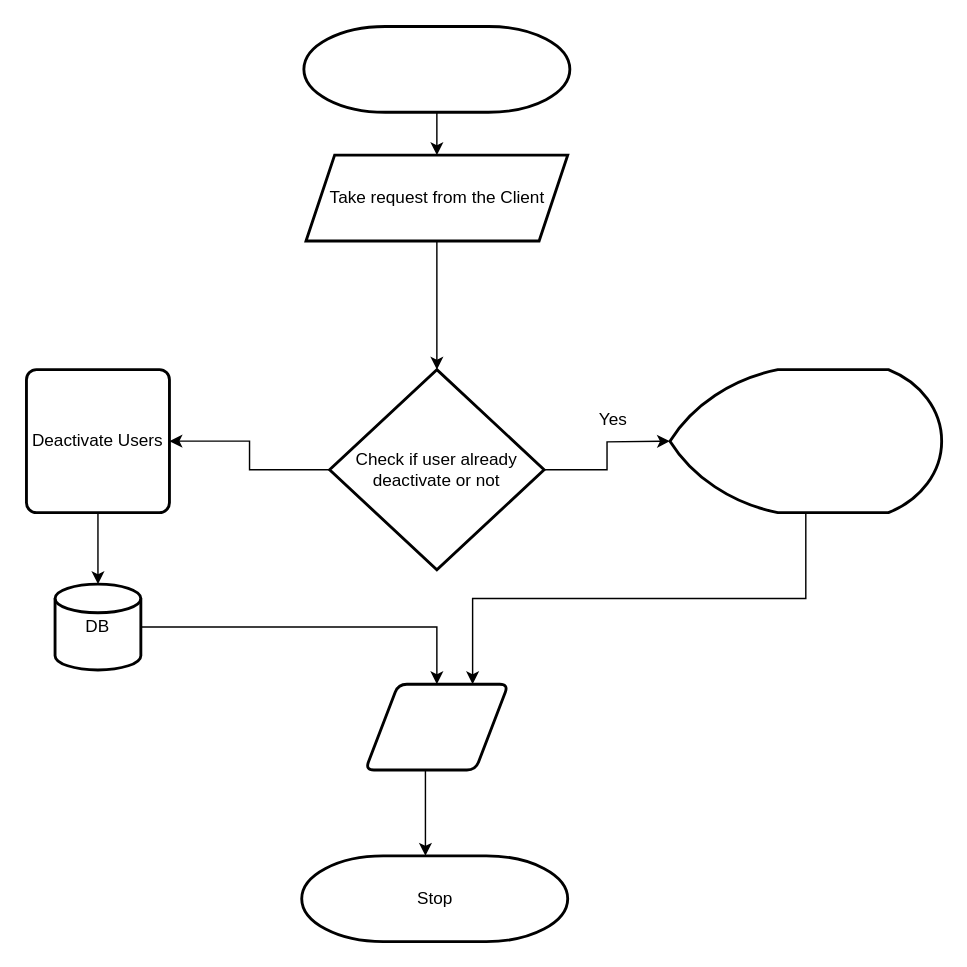
Image size: 967x967. Some labels were removed from this diagram. Here are the shapes that lost their labels. From the top down, the centre of each, then its label:
the point at 436,68: Start
the point at 805,440: Display Error Message: "User already deactivate"
the point at 436,726: Response
